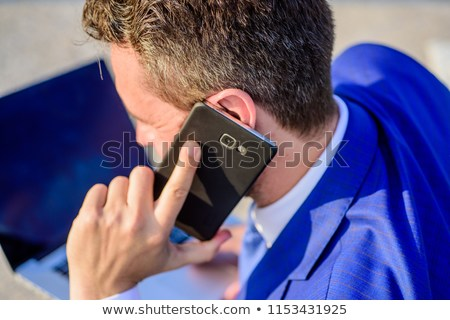phone: (147, 104, 279, 250)
